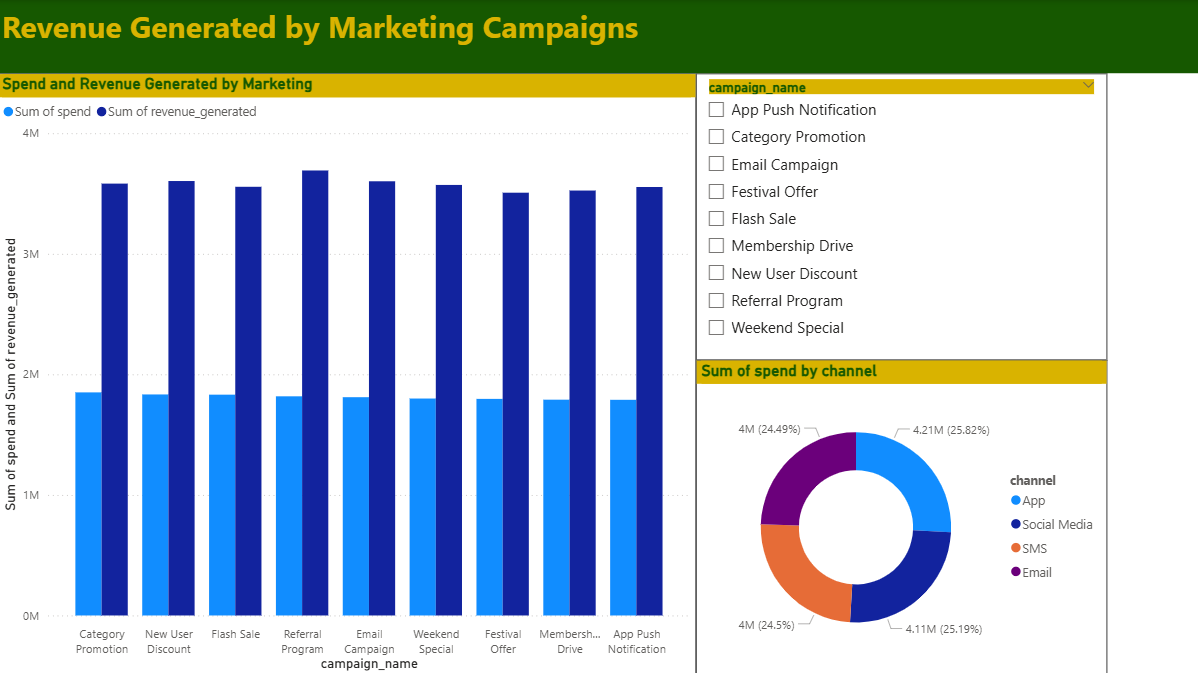

The page's visual inventory and layout, read from the dashboard file:
{"tool":"powerbi","page":{"name":"Page 3","canvas":[1280,720],"ordinal":2},"visuals":[{"type":"clusteredColumnChart","title":"Spend and Revenue Generated by Marketing ","fields":{"Category":["blinkit_marketing_performance.campaign_name"],"Y":["Sum(blinkit_marketing_performance.spend)","Sum(blinkit_marketing_performance.revenue_generated)"]},"box":[0,78.3,744.5,642.3],"z":0},{"type":"slicer","fields":{"Values":["blinkit_marketing_performance.campaign_name"]},"box":[744.5,78.3,437.8,305.2],"z":1},{"type":"donutChart","title":"Sum of spend by channel ","fields":{"Category":["blinkit_marketing_performance.channel"],"Series":["blinkit_marketing_performance.channel"],"Y":["Sum(blinkit_marketing_performance.spend)"]},"box":[744.5,383.4,437.8,337.1],"z":2},{"type":"textbox","title":"Revenue Genrated by Marketing Campaigns","box":[0,0,1279.7,78.3],"z":3}]}

Visuals, with their boxes in screenshot pixels (x1, y1, x2, y2), scaled from the page's 1280x720 canvas onto the 1198x673 screenshot:
"Spend and Revenue Generated by Marketing " clusteredColumnChart: 0, 73, 697, 672
slicer - blinkit_marketing_performance.campaign_name: 697, 73, 1107, 358
"Sum of spend by channel " donutChart: 697, 358, 1107, 672
"Revenue Genrated by Marketing Campaigns" textbox: 0, 0, 1197, 73
